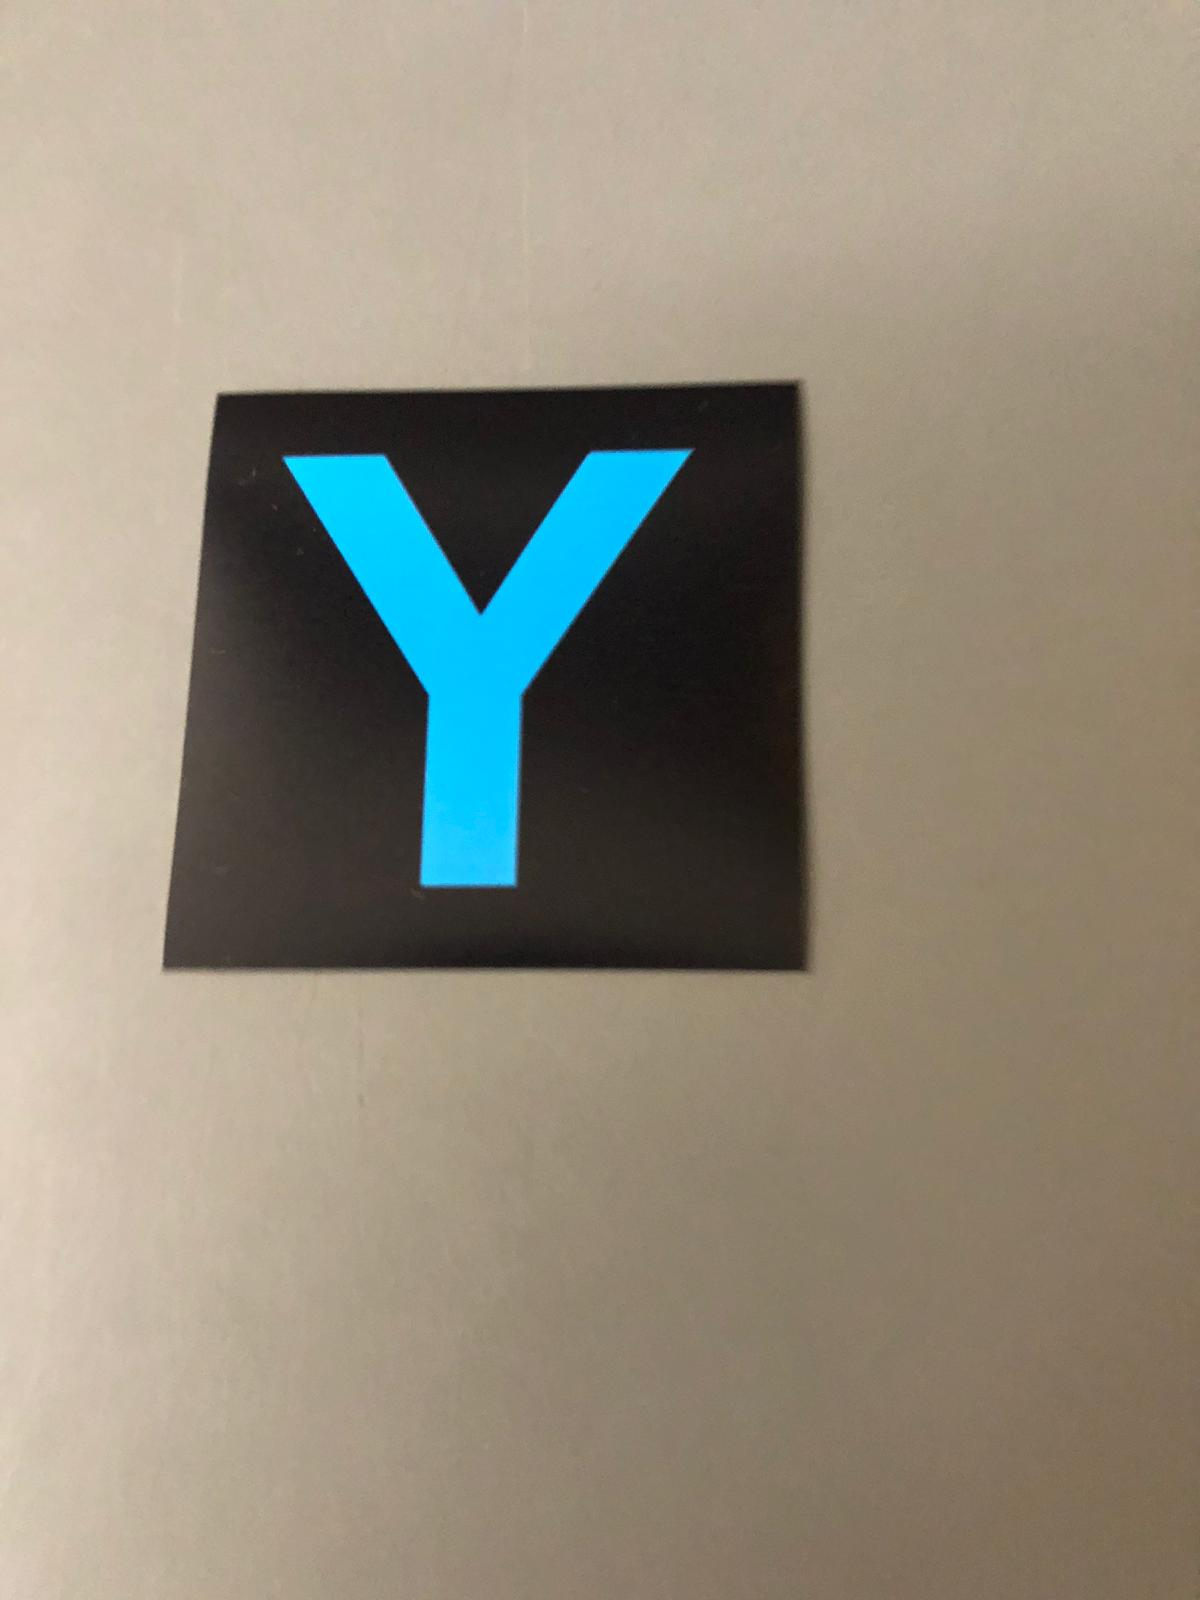Y: (227, 404, 776, 968)
